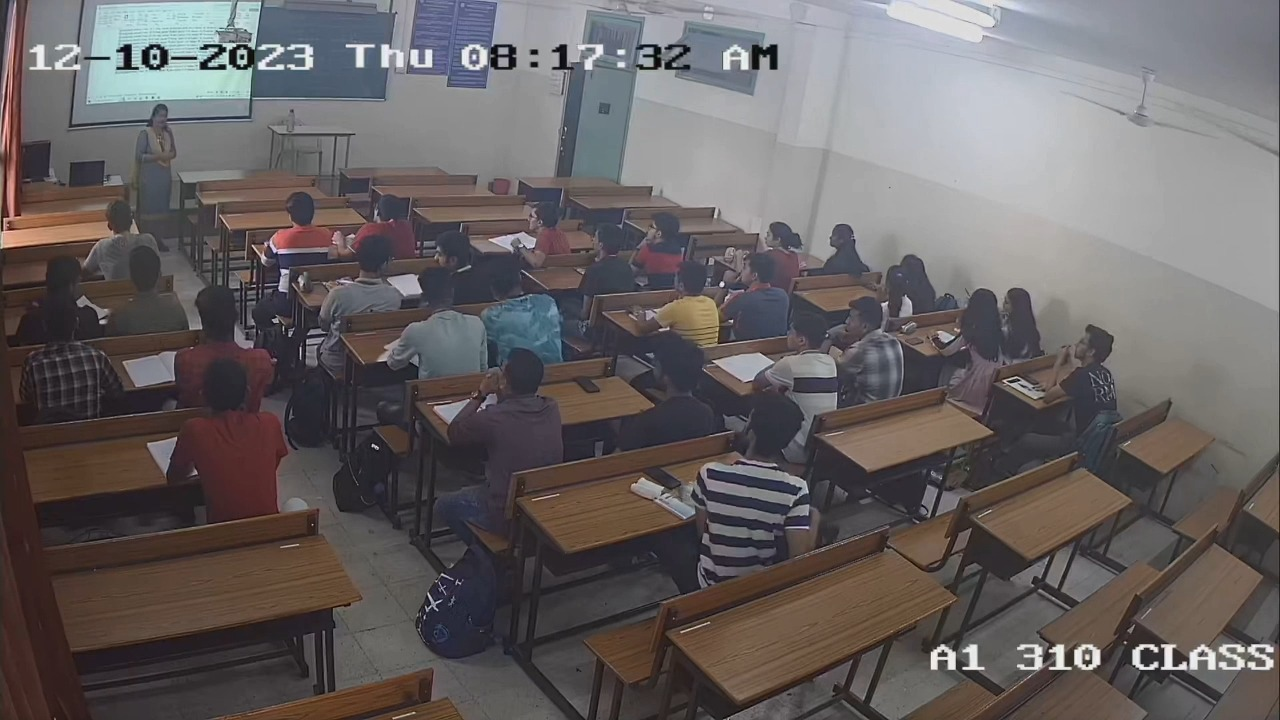cell-phones: (642, 464, 683, 491), (573, 375, 601, 394), (1017, 372, 1040, 386), (905, 336, 924, 346)
person: (691, 387, 815, 594), (617, 333, 725, 452), (1043, 324, 1119, 439), (940, 287, 1005, 397)
